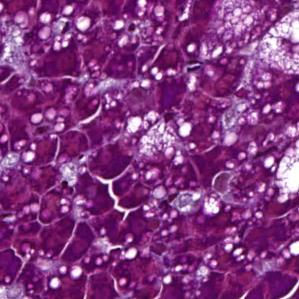ballooning: (256, 9, 297, 81)
